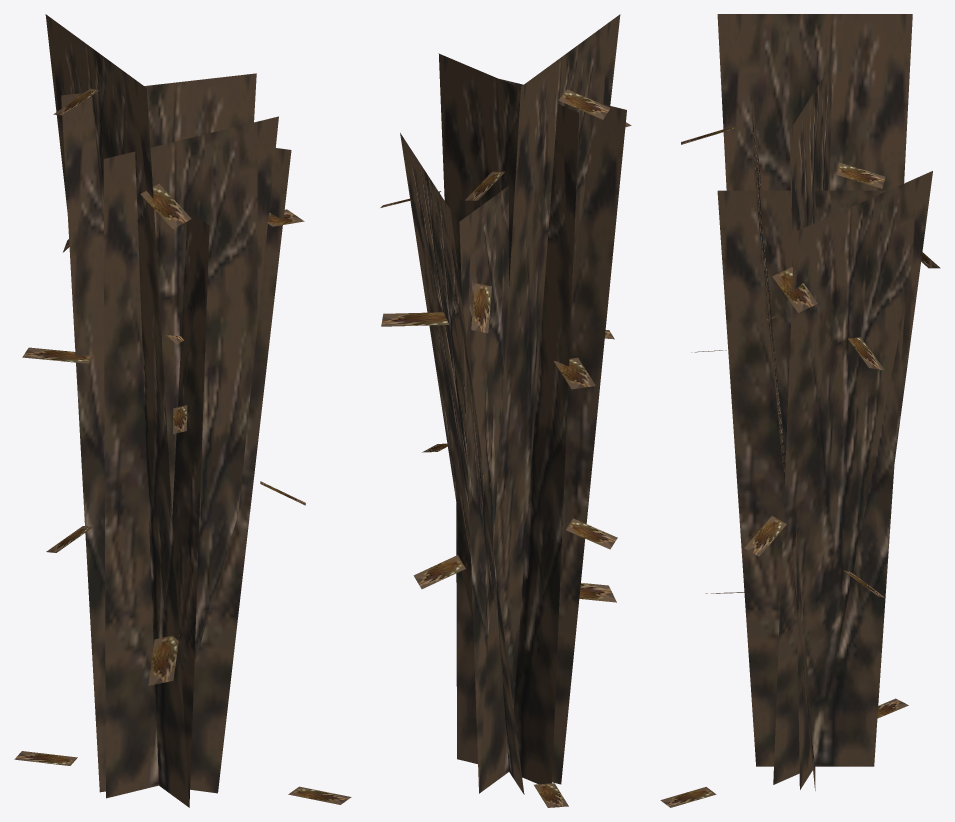
File: shrub_med.fbx
3 views of the same model, side by side, from view 1: azimuth 30°, elevation 25°; view 2: azimuth 150°, elevation 25°; view 3: azimuth 270°, elevation 25° (orthographic). The views are drawn at different scales.
Parts seen in each view (by area): view 1: mesh_0; view 2: mesh_0; view 3: mesh_0.
Part boxes in pixels (left/top/right/bottom): mesh_0: left=14, top=14, right=351, bottom=807; mesh_0: left=380, top=14, right=631, bottom=807; mesh_0: left=660, top=14, right=940, bottom=807.
Bounding box in the file's own units: 60.81 × 175 × 61.36.
Materials: 1 (1 with a texture image).
